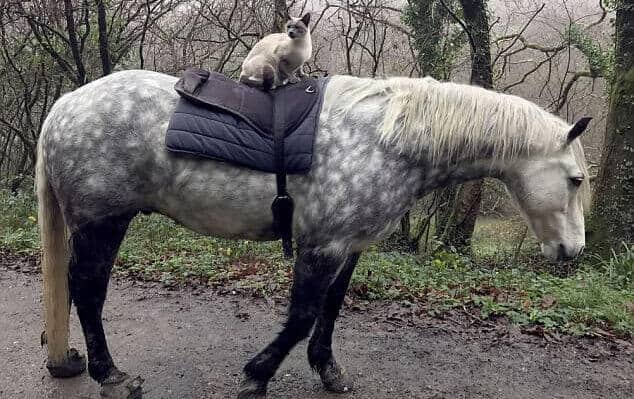Cat: (226, 10, 331, 84)
Horse: (26, 58, 597, 382)
